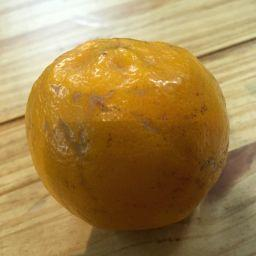Unripe: (25, 40, 231, 232)
